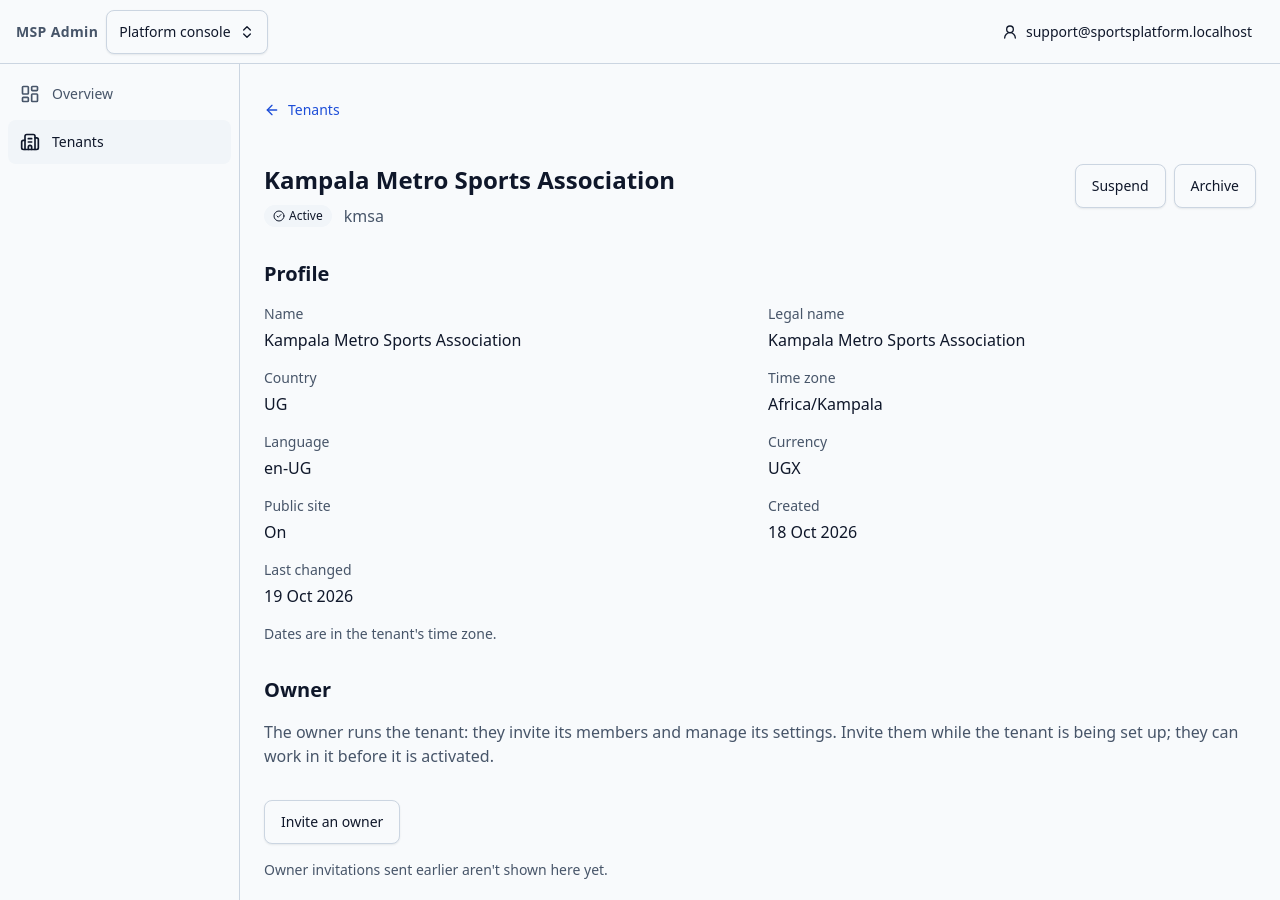
Test case: a tenant's detail › asks for a reason before suspending, then sends it with the tenant's version
Click the button "Suspend" at coordinates (1120, 186), box x1=1075 y1=164 x2=1166 y2=208
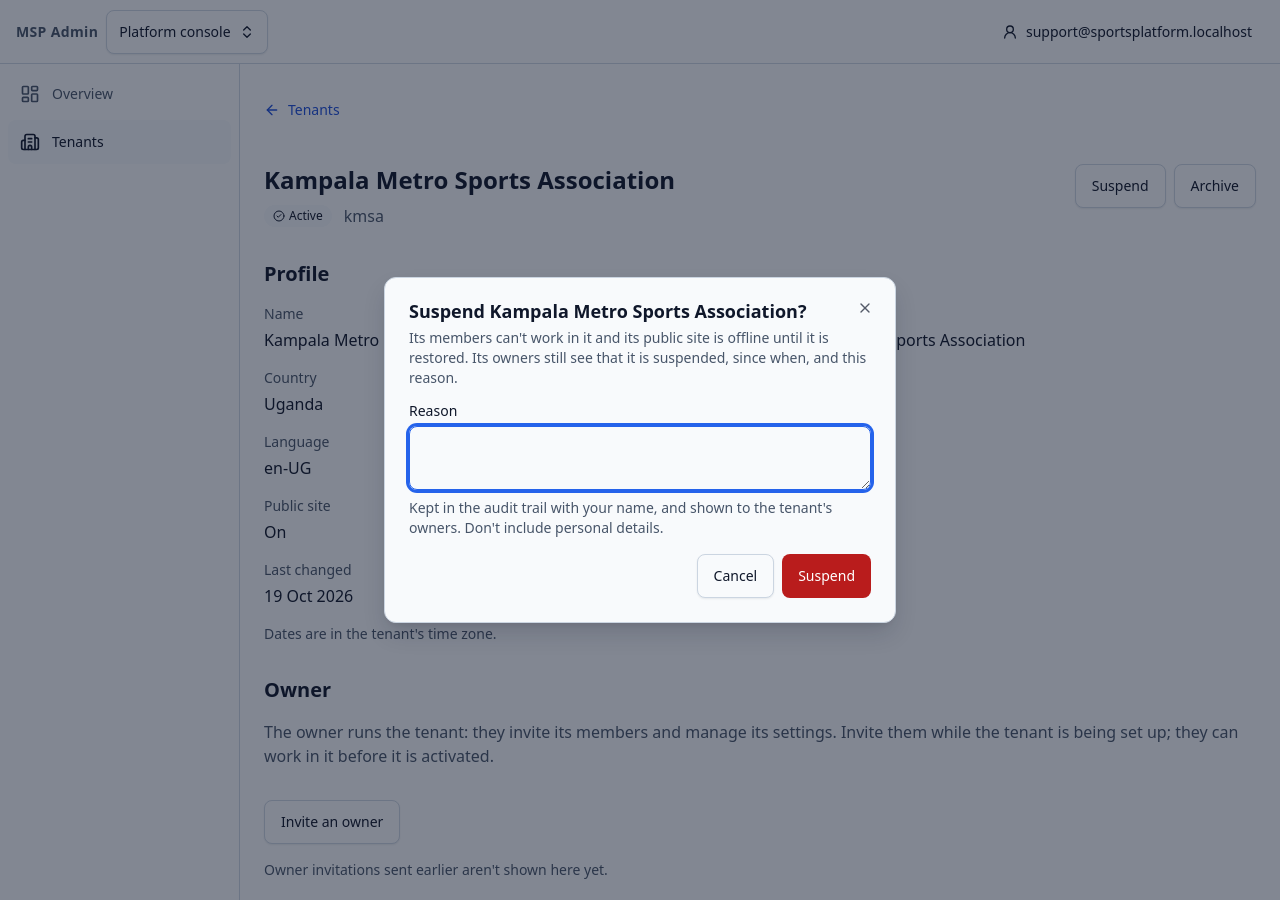
Now the text "Its owners still see that it is suspended, since when, and this reason." is shown, box x1=409 y1=328 x2=866 y2=387
Now the text box labelled "Reason" is shown, box x1=409 y1=426 x2=871 y2=490
Click the button "Suspend" at coordinates (827, 576), box x1=782 y1=554 x2=871 y2=598
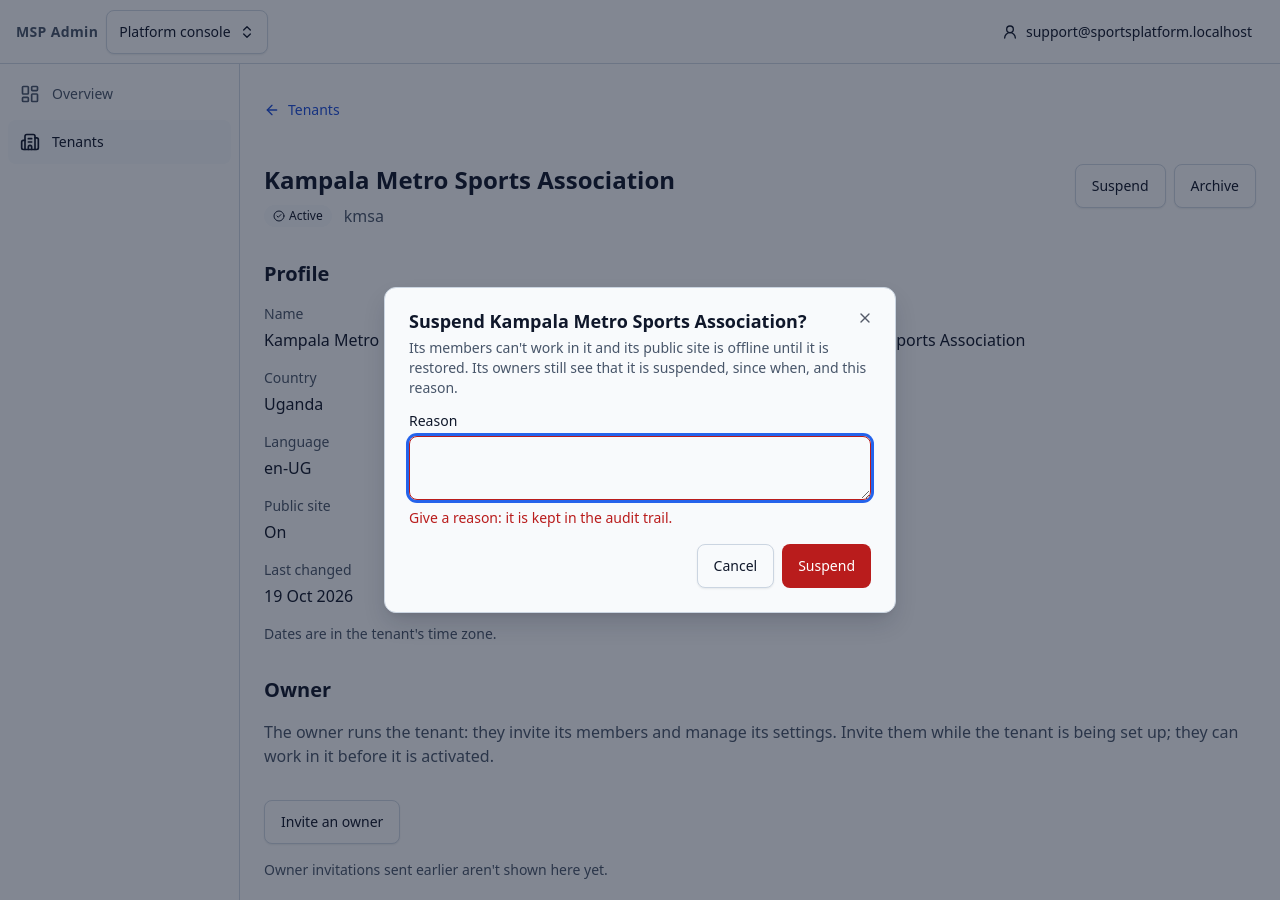
Now the text "Give a reason: it is kept in the audit trail." is shown, box x1=409 y1=508 x2=672 y2=527
Type "  Annual fee unpaid  " into the text box labelled "Reason" at coordinates (640, 468), box x1=409 y1=436 x2=871 y2=500
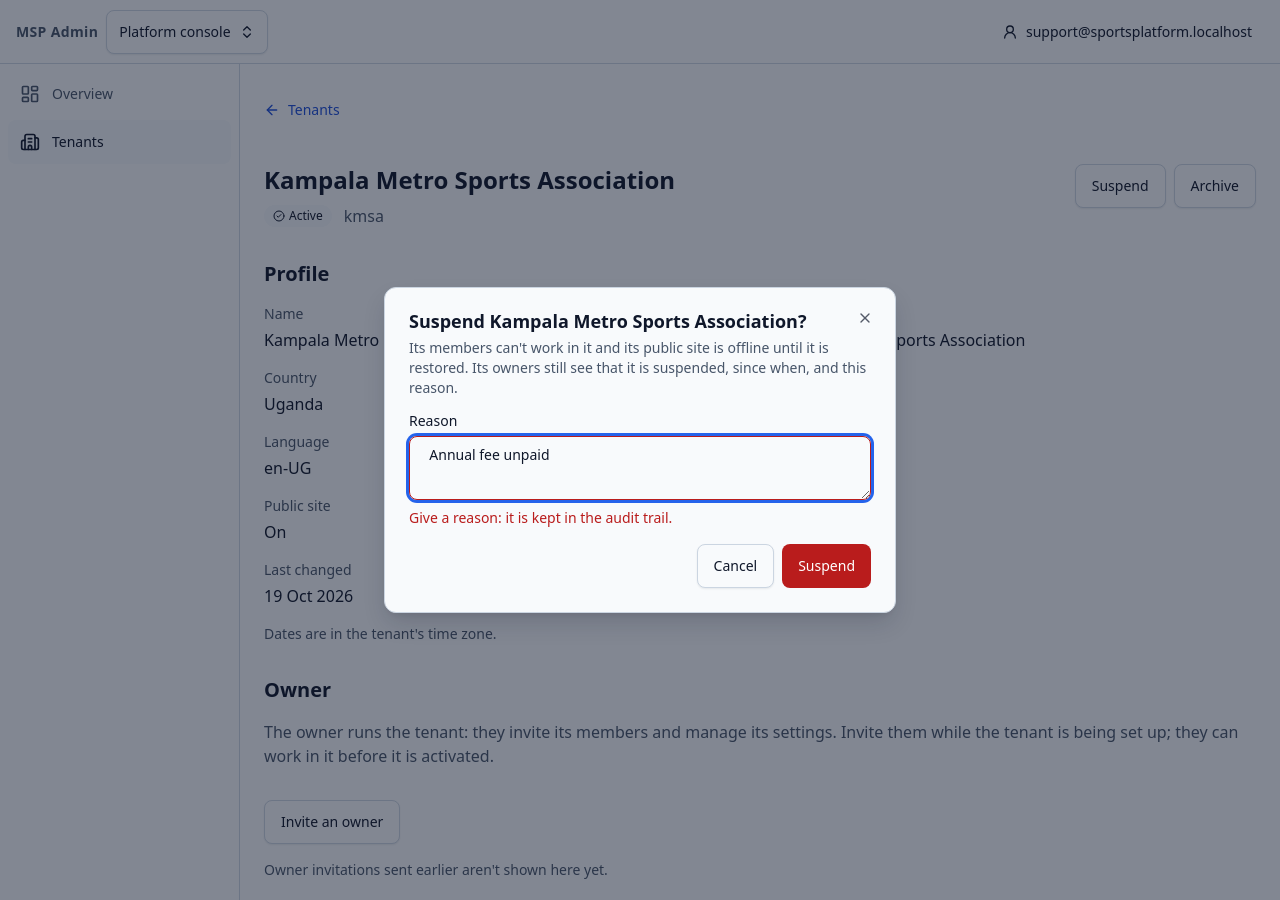
Click the button "Suspend" at coordinates (827, 566), box x1=782 y1=544 x2=871 y2=588
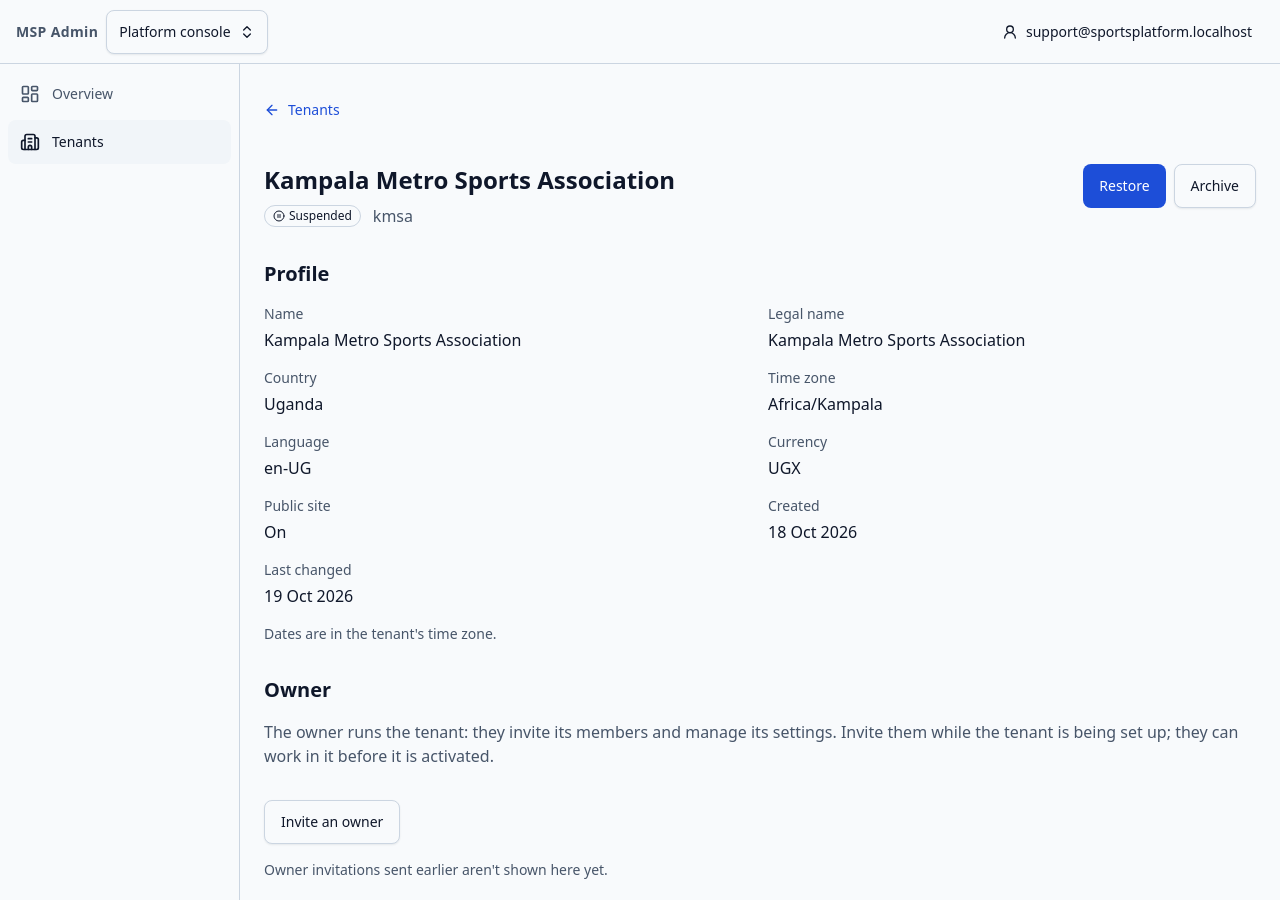
Now the dialog is gone
